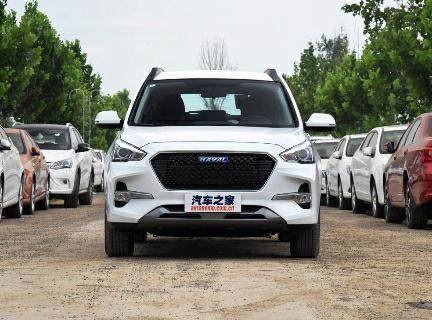哈弗-M6: (93, 63, 336, 269)
